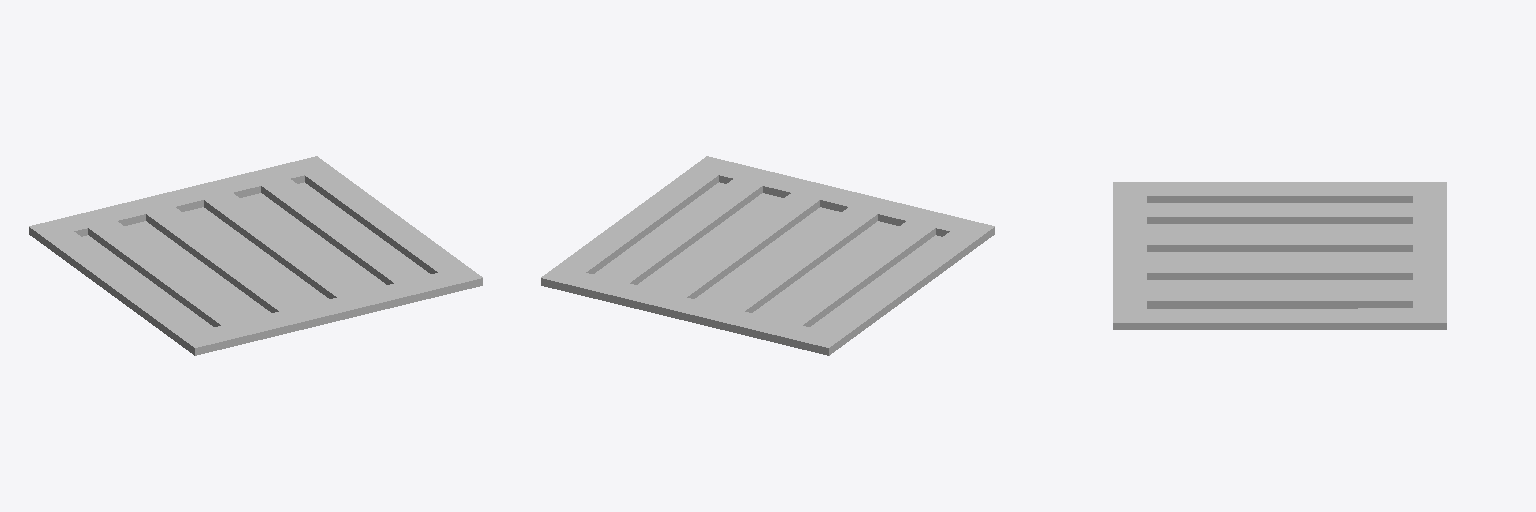
File: floorgrate.obj
3 views of the same model, side by side, from view 1: azimuth 30°, elevation 25°; view 2: azimuth 150°, elevation 25°; view 3: azimuth 270°, elevation 25° (orthographic).
Parts seen in each view (by area): view 1: Cube; view 2: Cube; view 3: Cube.
Part boxes in pixels (left/top/right/bottom): Cube: left=29, top=156, right=482, bottom=355; Cube: left=541, top=156, right=994, bottom=355; Cube: left=1113, top=182, right=1446, bottom=329.
Bounding box in the file's own units: 2 × 0.0509 × 2.